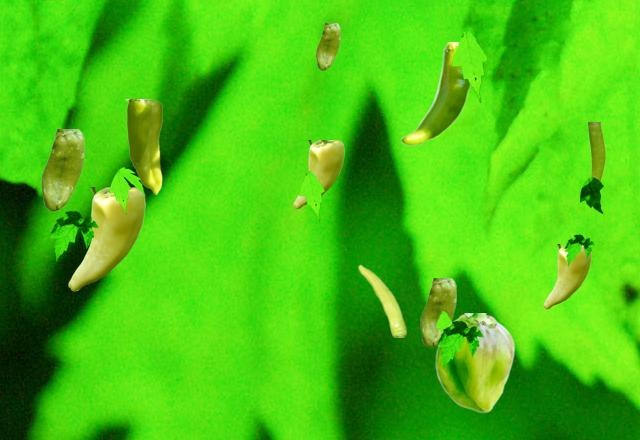green_chili: (68, 187, 144, 290), (435, 313, 514, 412), (400, 42, 471, 145), (41, 129, 83, 210), (293, 140, 343, 208), (358, 264, 405, 336), (125, 99, 161, 193), (543, 244, 590, 308), (420, 278, 455, 346), (316, 23, 339, 69), (587, 122, 604, 181)
